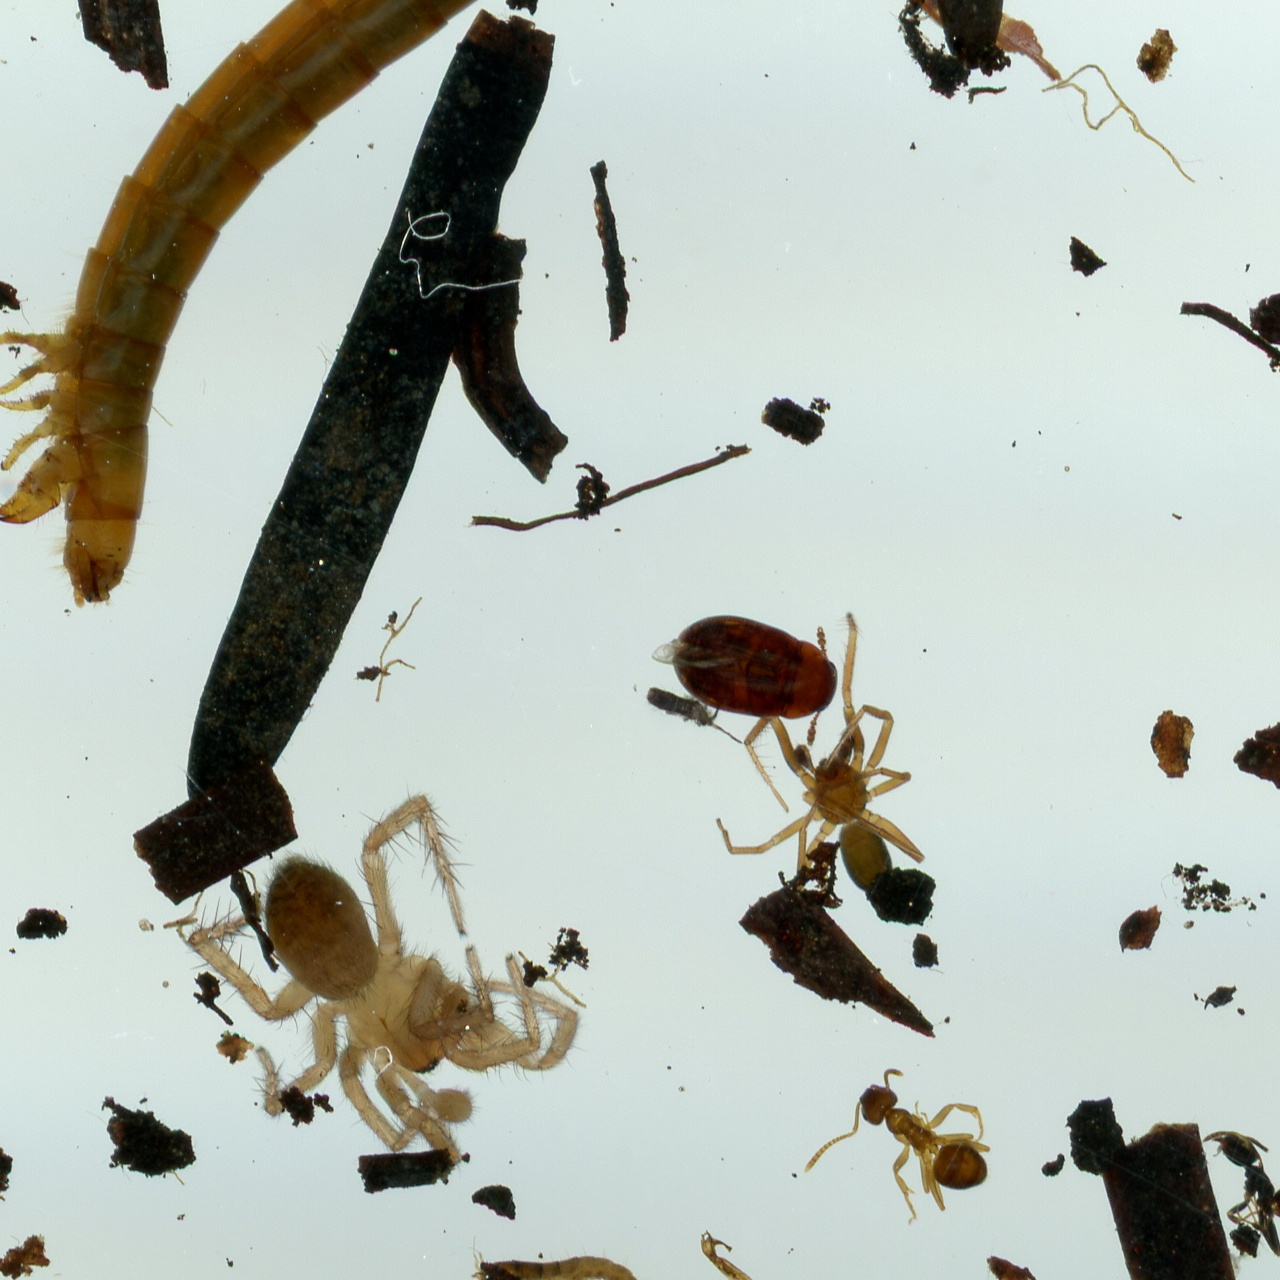arthropod: (0, 0, 611, 610), (177, 788, 583, 1167), (720, 602, 951, 890), (802, 1063, 992, 1228), (655, 612, 842, 728), (1210, 1128, 1280, 1259), (461, 1237, 658, 1280), (639, 682, 741, 749)
